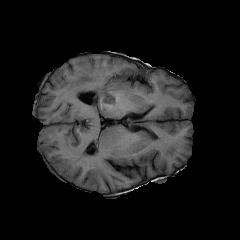glioma: (65, 70, 114, 103)
